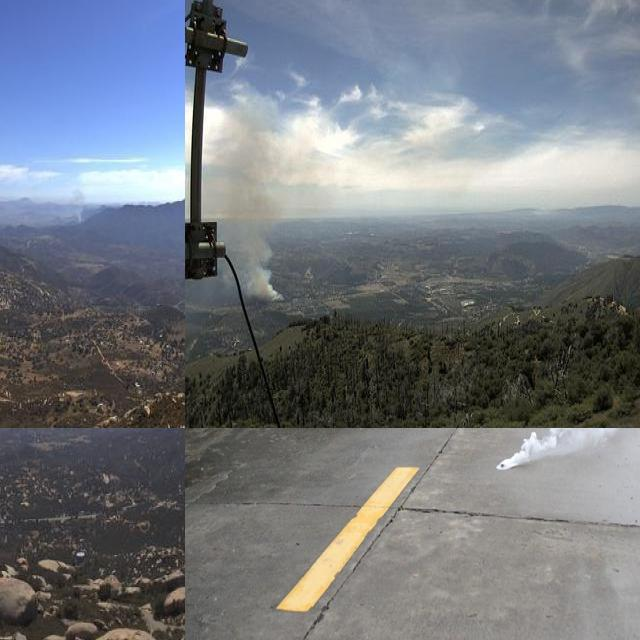smoke: (207, 101, 287, 302), (494, 428, 640, 471), (30, 177, 87, 228)
